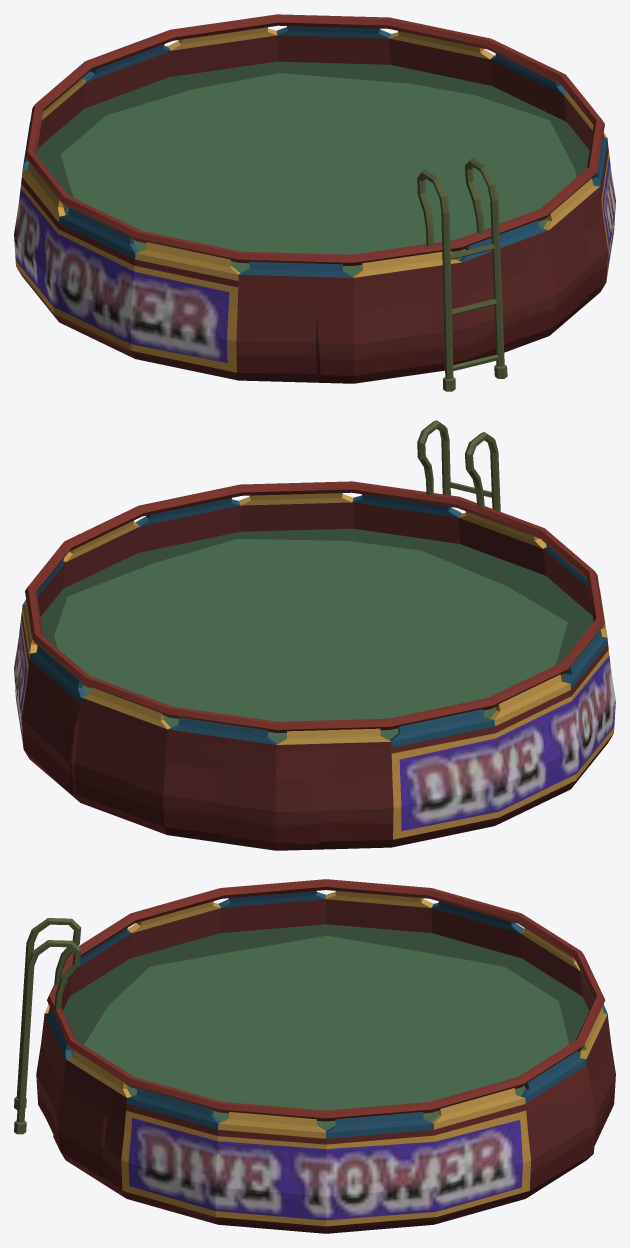
Rendered from SM_Prop_Dive_Tower_Pool_01.glb.
3 views of the same model, one above another, from view 1: azimuth 30°, elevation 25°; view 2: azimuth 150°, elevation 25°; view 3: azimuth 270°, elevation 25° (orthographic). The views are drawn at different scales.
Parts seen in each view (by area): view 1: SM_Prop_Dive_Tower_Pool_01; view 2: SM_Prop_Dive_Tower_Pool_01; view 3: SM_Prop_Dive_Tower_Pool_01.
Part boxes in pixels (x1,y1,x2,y2): SM_Prop_Dive_Tower_Pool_01: (14,14,615,391); SM_Prop_Dive_Tower_Pool_01: (14,420,615,850); SM_Prop_Dive_Tower_Pool_01: (14,879,615,1233).
Size of the model in its own units: 493 by 179 by 512.
1 material, 1 textured.
